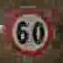limite 60: (5, 4, 53, 58)
